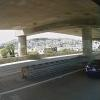Bridge: (6, 10, 94, 49)
